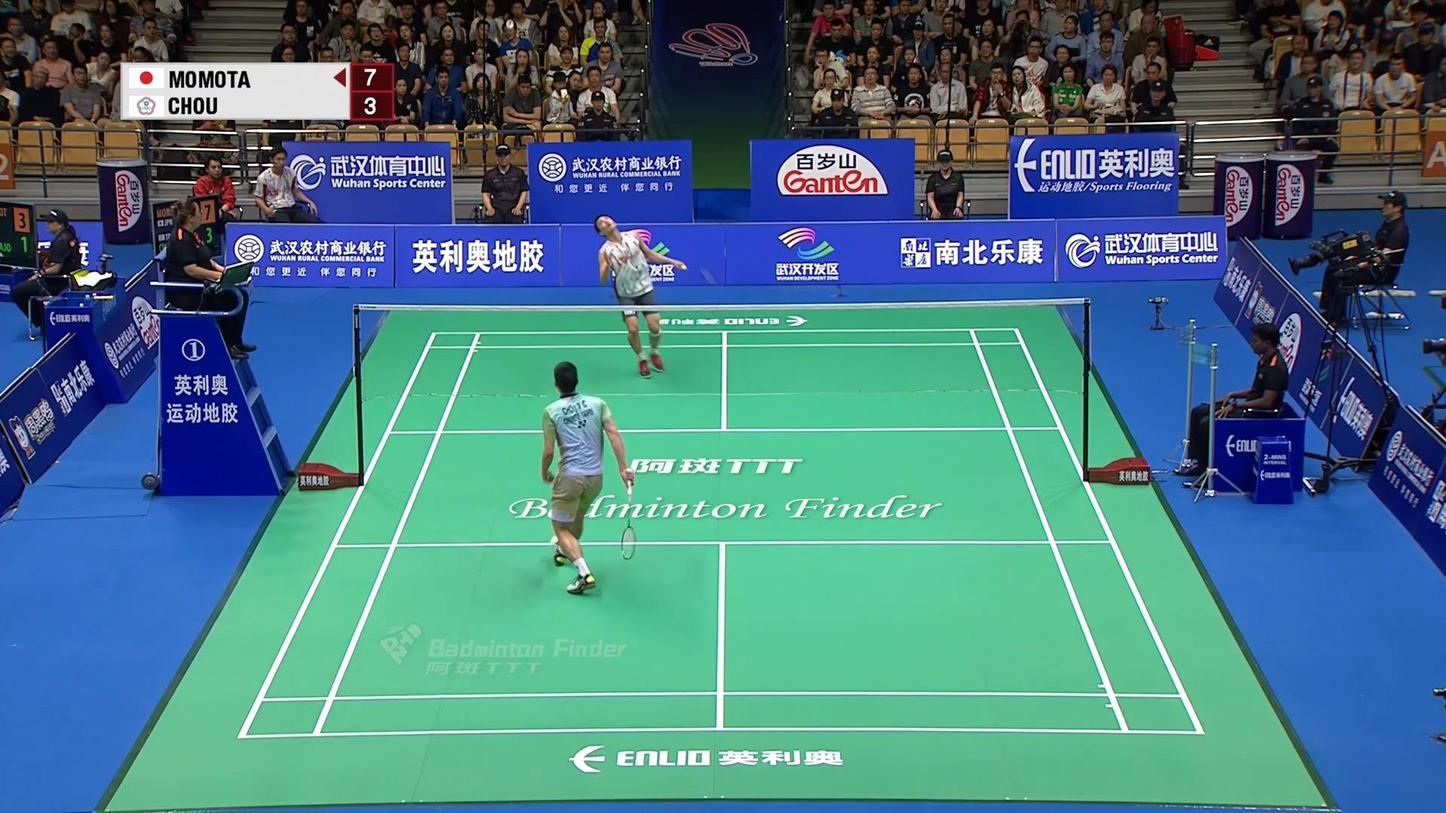player: (540, 362, 635, 595), (597, 212, 687, 378)
